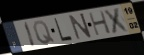H: (87, 10, 112, 37)
I: (23, 21, 37, 49)
L: (54, 17, 74, 43)
N: (68, 12, 93, 41)
Q: (32, 19, 56, 45)
X: (102, 6, 132, 35)
